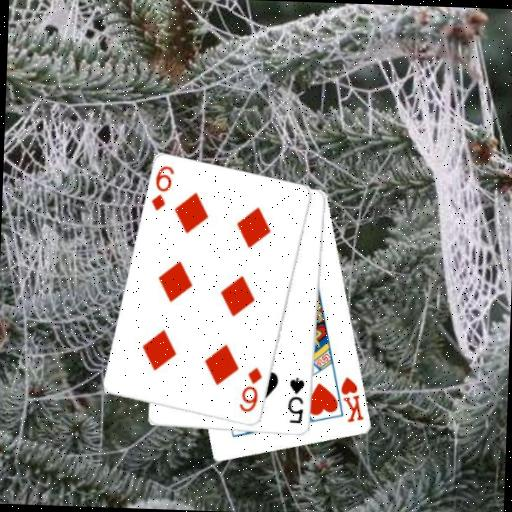5S: (284, 374, 307, 426)
6D: (236, 364, 264, 415), (148, 162, 176, 213)
KH: (337, 374, 367, 425)
